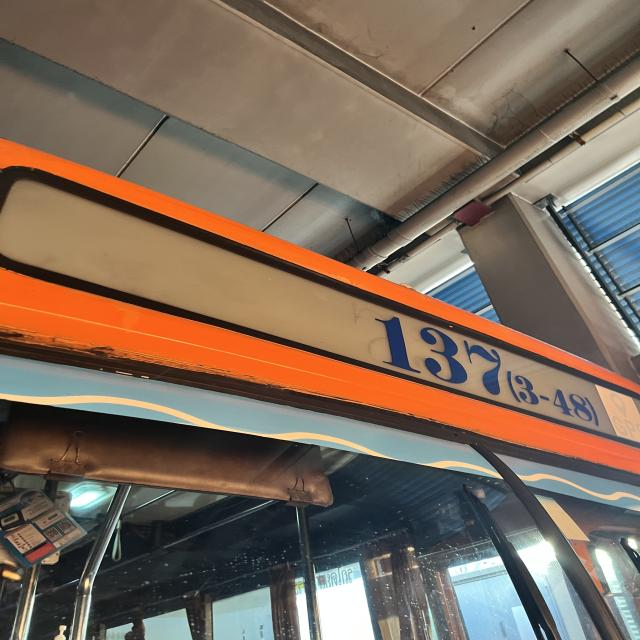BMTA-bus: (0, 133, 640, 640)
Bus-Line-Number: (354, 296, 611, 435)
